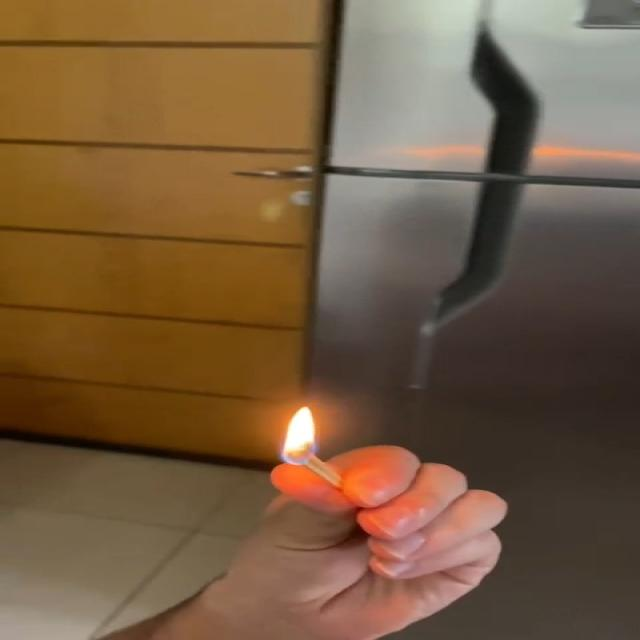fogo-ypXI: (278, 403, 319, 467)
